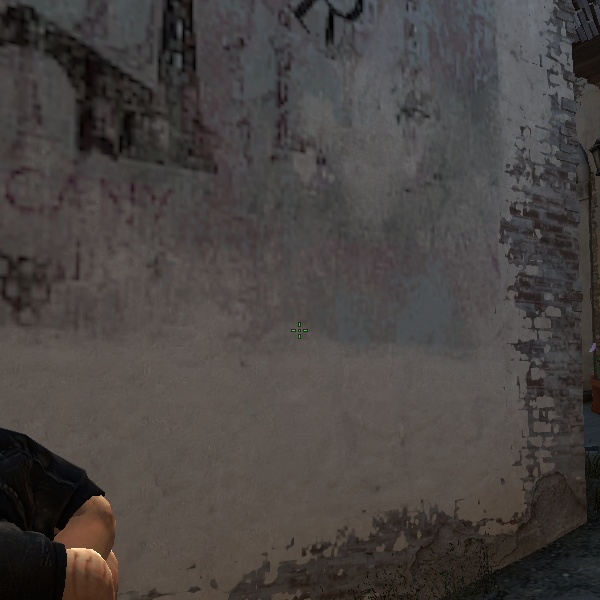t_body: (5, 415, 165, 596)
